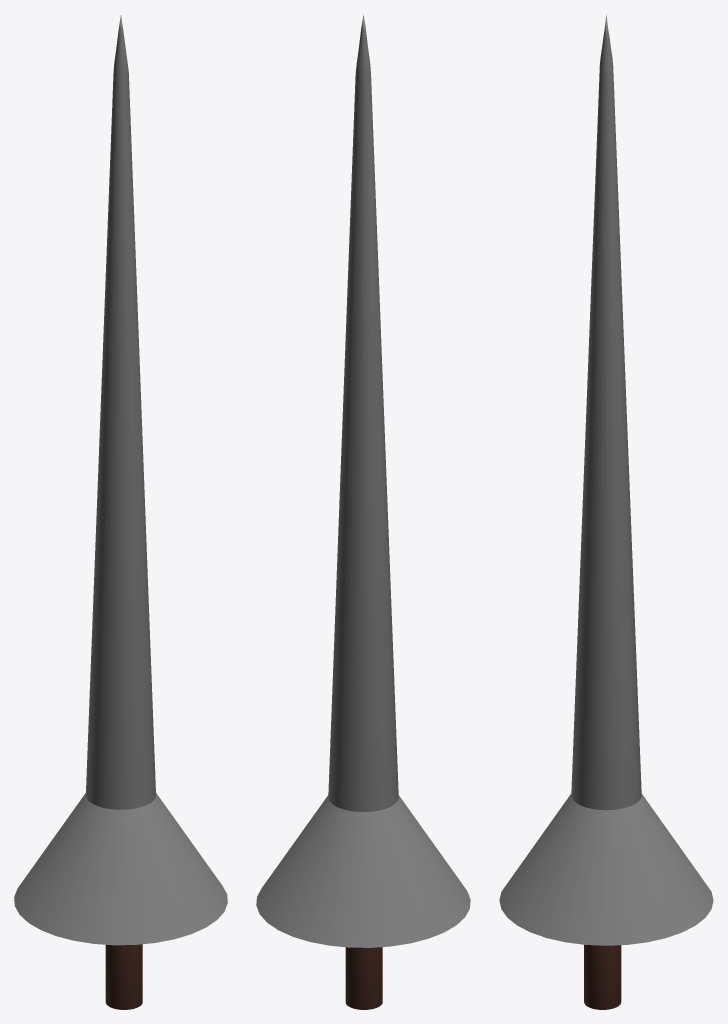
The model's file is knight-Sword.fbx.
3 views of the same model, side by side, from view 1: azimuth 30°, elevation 25°; view 2: azimuth 150°, elevation 25°; view 3: azimuth 270°, elevation 25° (orthographic).
Parts seen in each view (by area): view 1: Cylinder.002, Cylinder.001, Cylinder; view 2: Cylinder.002, Cylinder.001, Cylinder; view 3: Cylinder.002, Cylinder.001, Cylinder.
Part boxes in pixels (x1=…): Cylinder.002: x1=86, y1=15, x2=155, y2=809; Cylinder.001: x1=14, y1=793, x2=227, y2=945; Cylinder: x1=105, y1=944, x2=142, y2=1009; Cylinder.002: x1=328, y1=14, x2=398, y2=811; Cylinder.001: x1=256, y1=795, x2=470, y2=947; Cylinder: x1=345, y1=947, x2=382, y2=1009; Cylinder.002: x1=571, y1=14, x2=641, y2=810; Cylinder.001: x1=499, y1=794, x2=713, y2=945; Cylinder: x1=584, y1=944, x2=621, y2=1009.
Size of the model in its own units: 200 by 1017 by 200.
